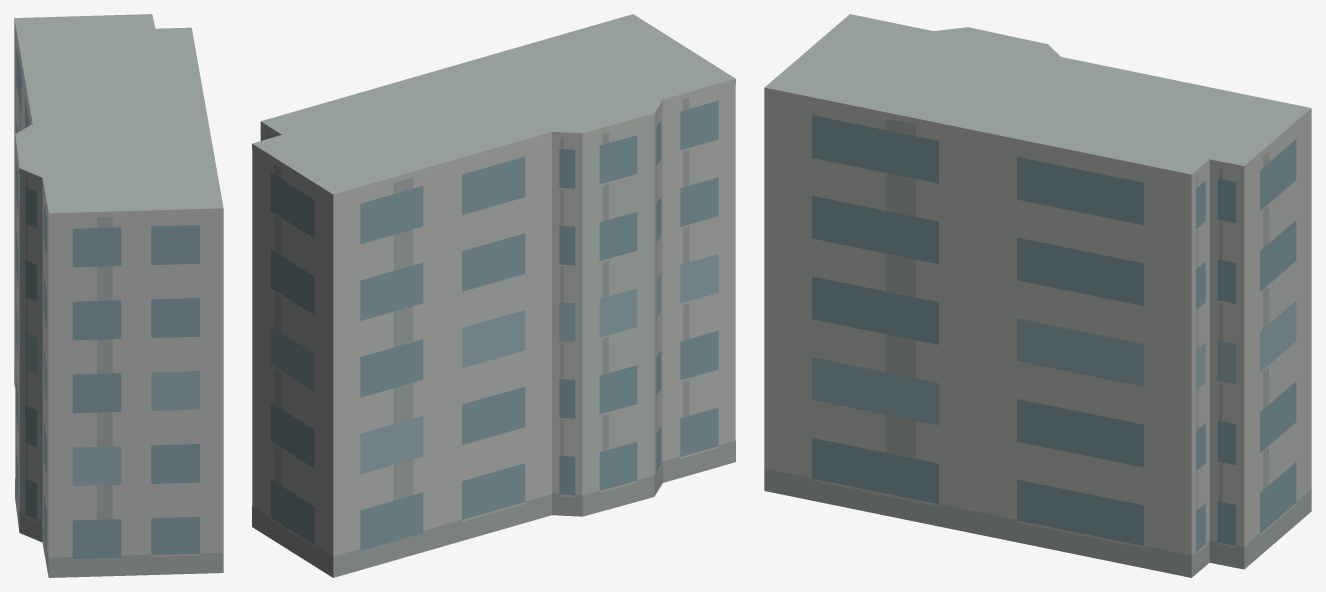
Rendered from survey-upis-32531523.glb.
The picture shows the model from 3 angles, left to right: view 1: azimuth 30°, elevation 25°; view 2: azimuth 150°, elevation 25°; view 3: azimuth 270°, elevation 25°; orthographic projection. The views are drawn at different scales.
Visible parts, largest first — view 1: survey-upis-32531523.tmp; view 2: survey-upis-32531523.tmp; view 3: survey-upis-32531523.tmp.
Part boxes in pixels (x1,y1,x2,y2): survey-upis-32531523.tmp: [14, 14, 223, 577]; survey-upis-32531523.tmp: [252, 14, 735, 577]; survey-upis-32531523.tmp: [764, 14, 1311, 577].
Bounding box in the file's own units: 13.74 × 16.08 × 19.78.
